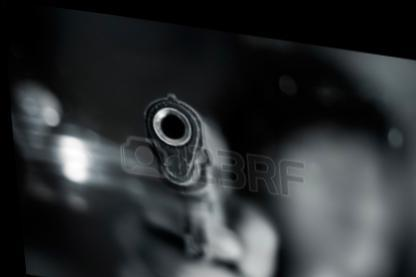pistol: (130, 79, 226, 258)
